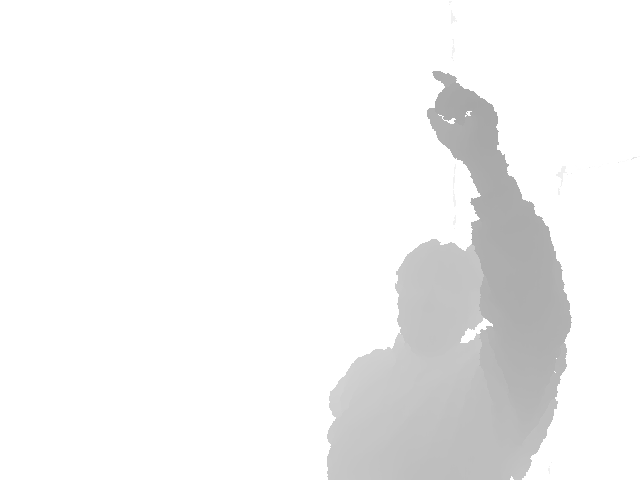hand: (424, 69, 510, 172)
head: (395, 238, 489, 355)
person: (324, 69, 573, 479)
